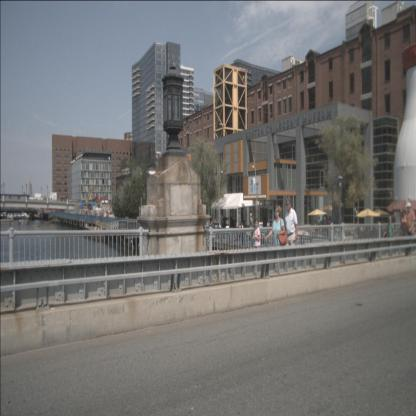human-pedestrian-adult: (265, 204, 288, 277), (284, 198, 298, 276), (401, 202, 415, 262), (399, 208, 409, 257), (249, 210, 254, 230), (323, 215, 327, 231), (209, 215, 212, 228), (318, 217, 321, 227)
vehicle-car: (35, 193, 44, 202)
